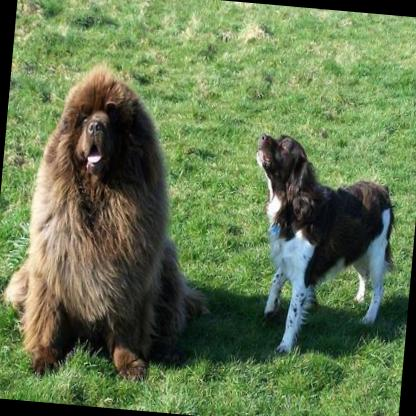Newfoundland: (0, 54, 230, 390), (236, 130, 408, 366)
